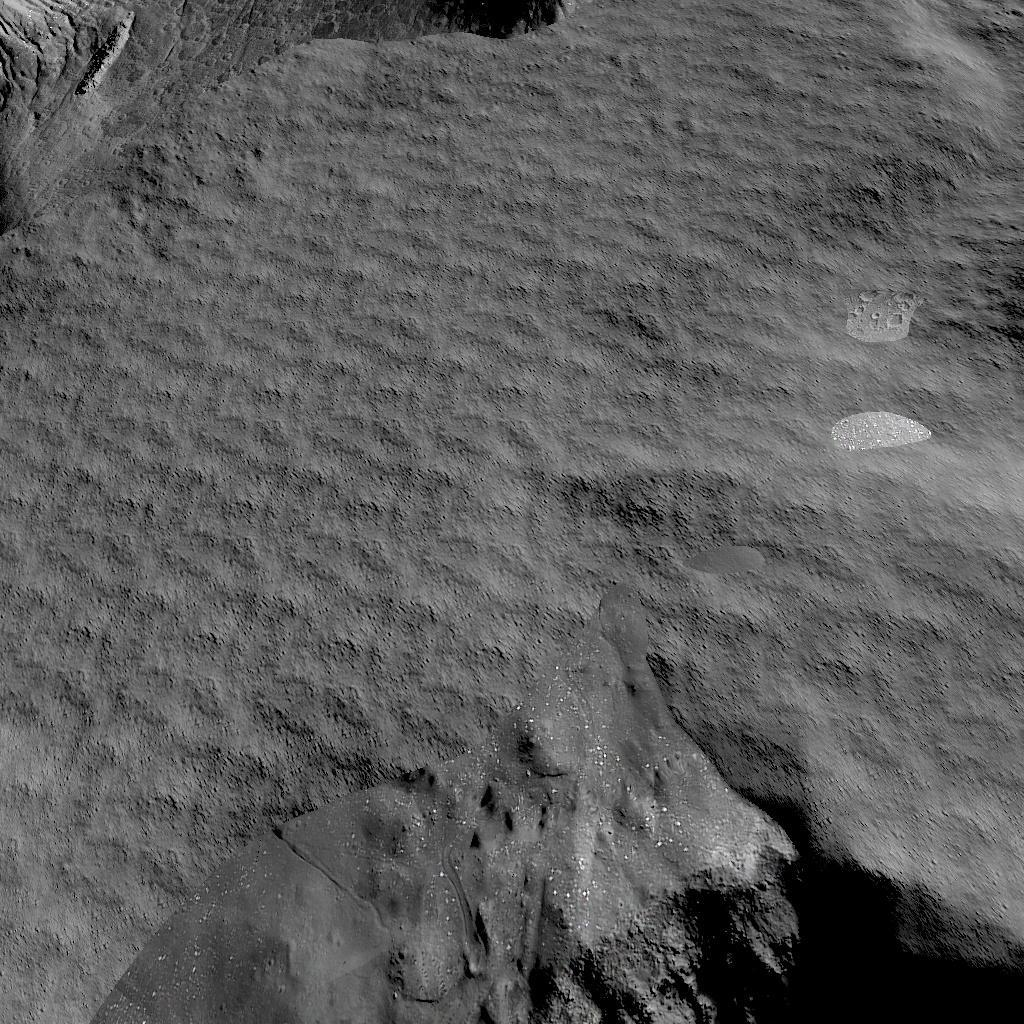Boulders: (0, 0, 595, 270)
Crater: (106, 755, 1024, 1024)
Plan surface: (0, 282, 1024, 742), (611, 0, 1024, 268)
